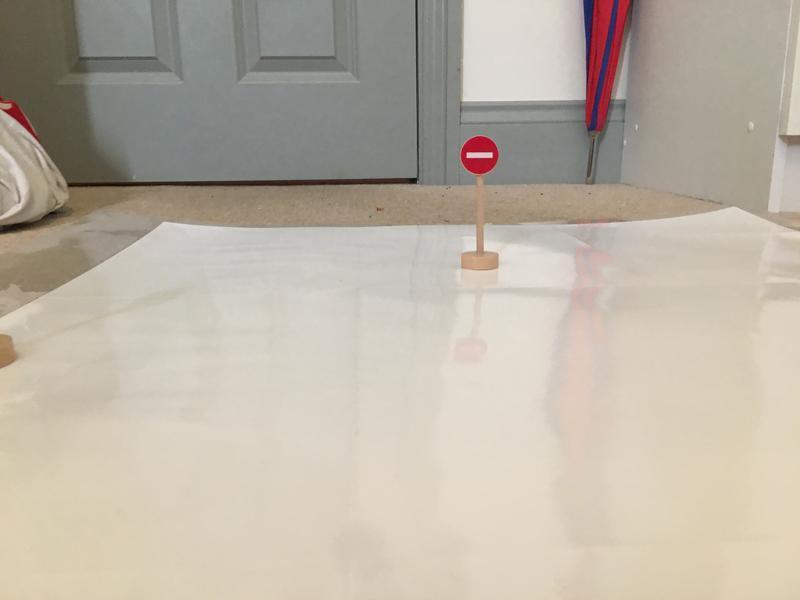Traffic_Sign_No_Entry: (460, 135, 499, 177)
